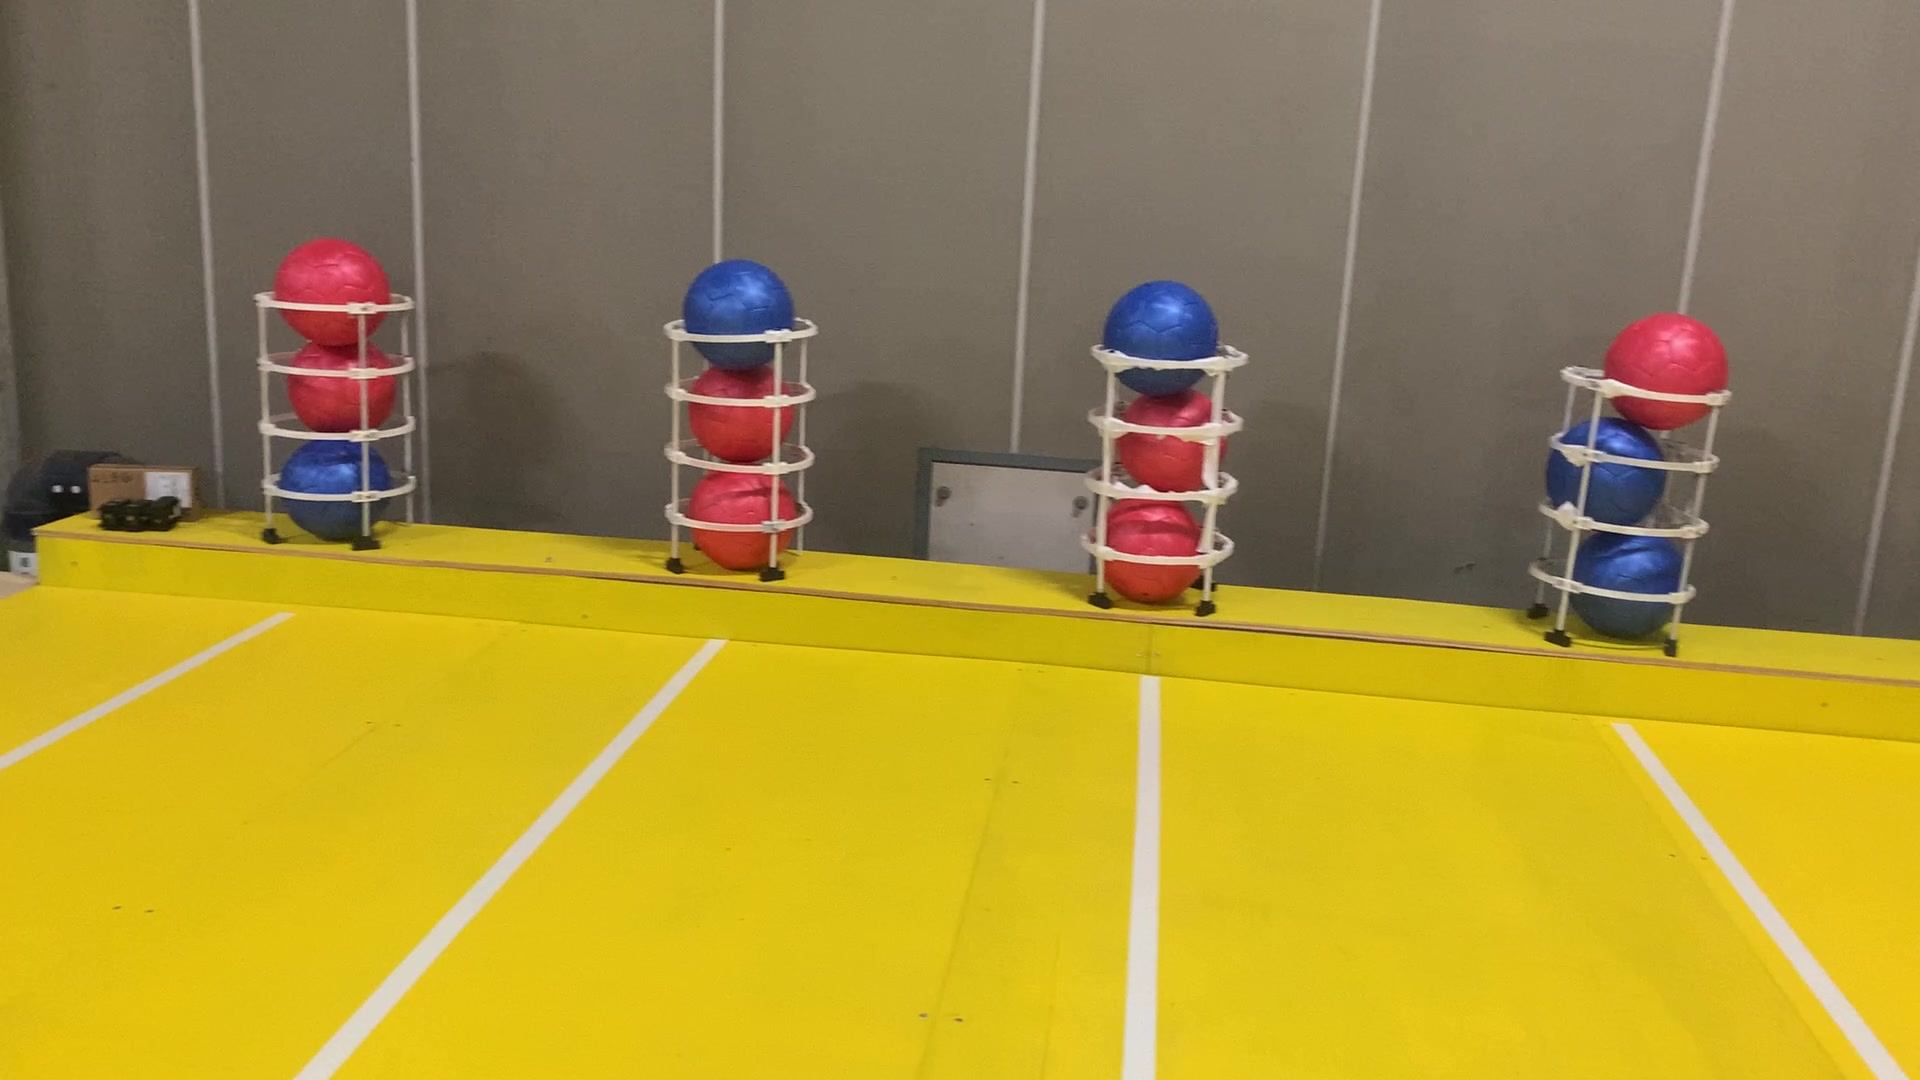blue: (1092, 276, 1224, 396), (675, 244, 799, 371), (270, 430, 396, 553), (1560, 512, 1684, 634), (1540, 410, 1665, 526)
red: (1604, 301, 1735, 434), (270, 228, 392, 352), (680, 452, 799, 578), (683, 351, 796, 464), (1117, 382, 1226, 498), (285, 335, 402, 436), (1097, 493, 1208, 600)
